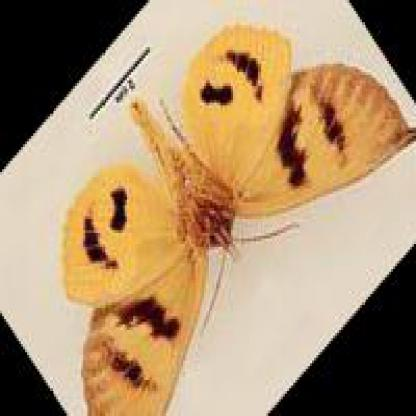fruit sucking moth: (61, 28, 414, 413)
